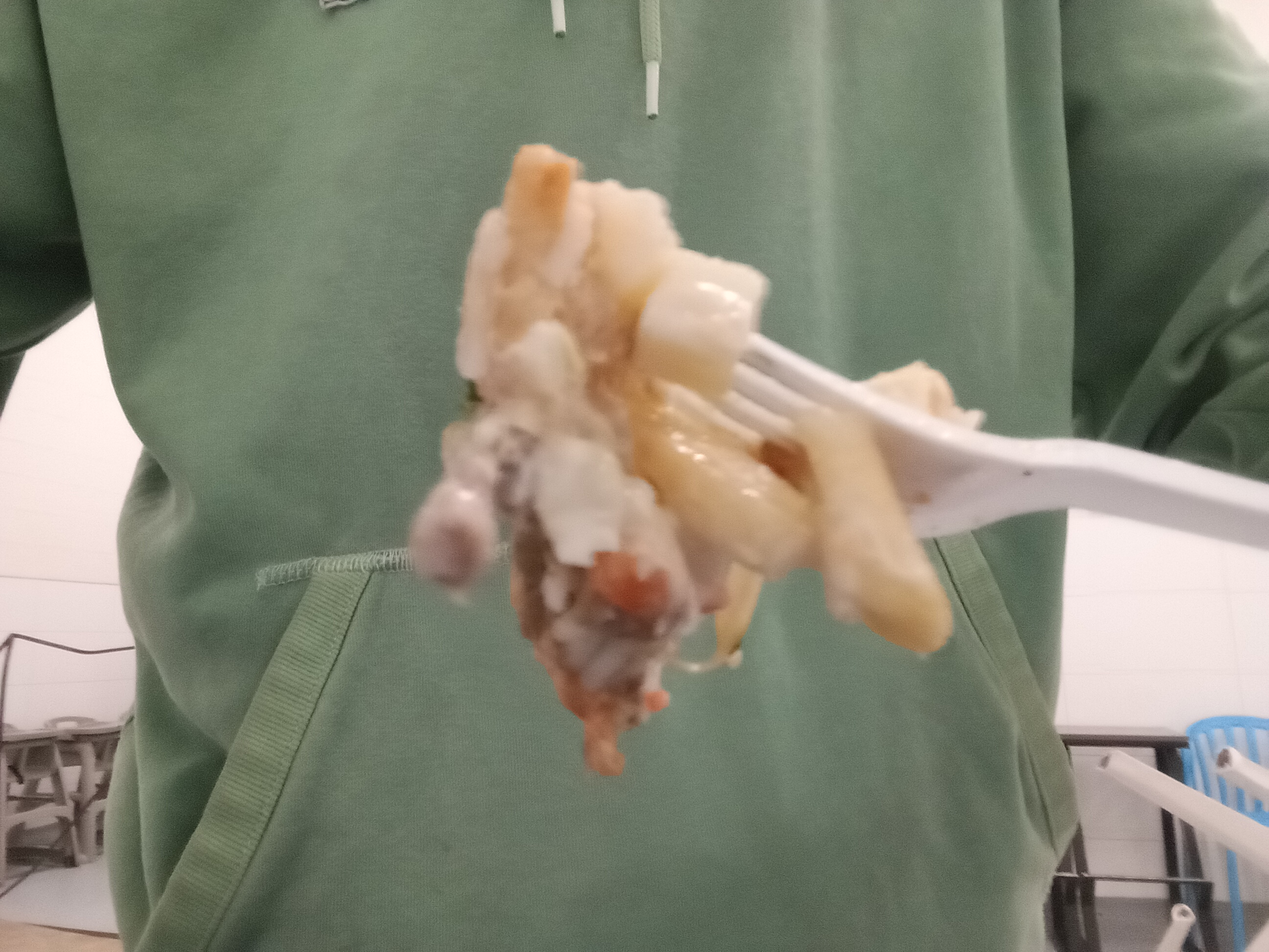Organico: (415, 139, 957, 778)
